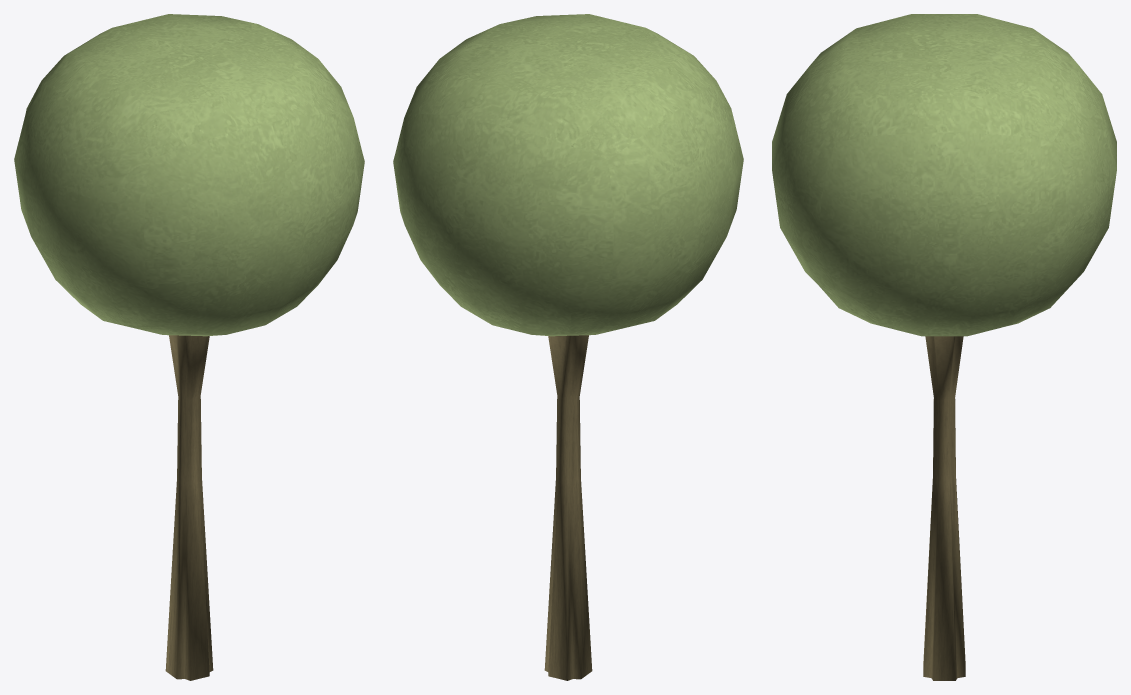
The model's file is THETREE2.FBX.
The picture shows the model from 3 angles, left to right: view 1: azimuth 30°, elevation 25°; view 2: azimuth 150°, elevation 25°; view 3: azimuth 270°, elevation 25°; orthographic projection.
Parts seen in each view (by area): view 1: Tree002; view 2: Tree002; view 3: Tree002.
Boxes of the visible parts, box(x1,y1,x2,y2) form: Tree002: box(14, 14, 364, 680); Tree002: box(393, 14, 743, 680); Tree002: box(772, 14, 1116, 680).
Bounding box in the file's own units: 83.17 × 166 × 83.17.
